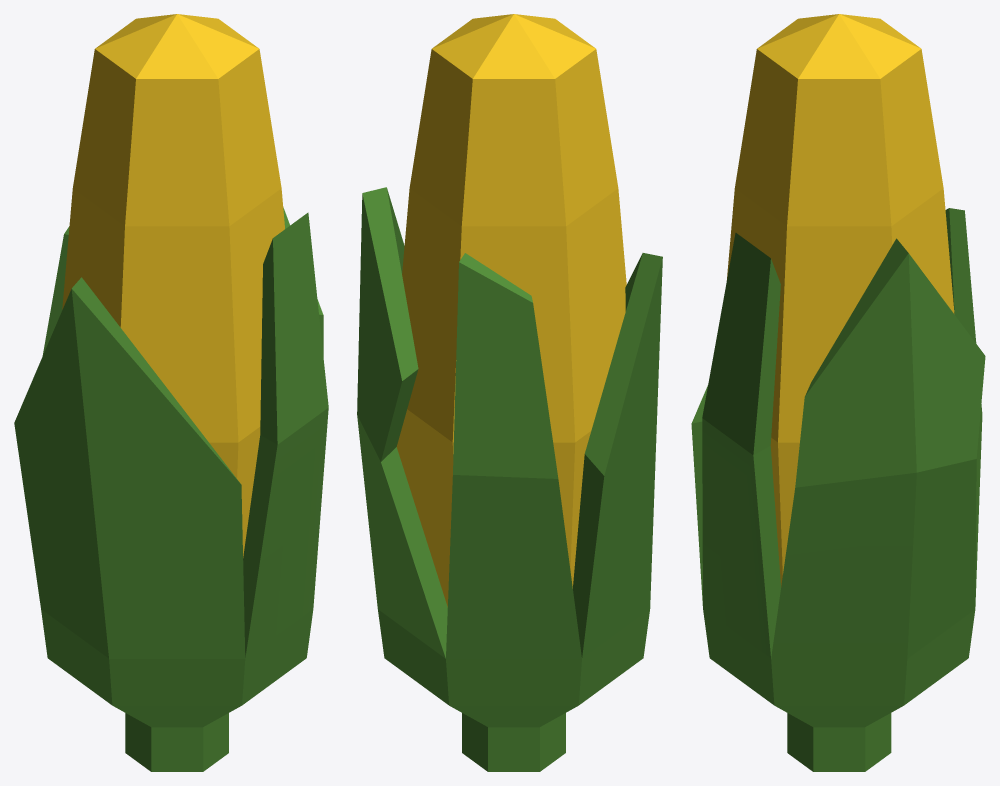
The model's file is corn_interactable.fbx.
3 renders of one model, left to right at view 1: azimuth 30°, elevation 25°; view 2: azimuth 150°, elevation 25°; view 3: azimuth 270°, elevation 25°, orthographic.
Parts seen in each view (by area): view 1: corn_interactable; view 2: corn_interactable; view 3: corn_interactable.
Part boxes in pixels (box(x1,y1,x2,y2)): corn_interactable: box(14, 14, 328, 771); corn_interactable: box(357, 14, 662, 771); corn_interactable: box(691, 14, 985, 771).
Bounding box in the file's own units: 51.78 × 145 × 51.44.
